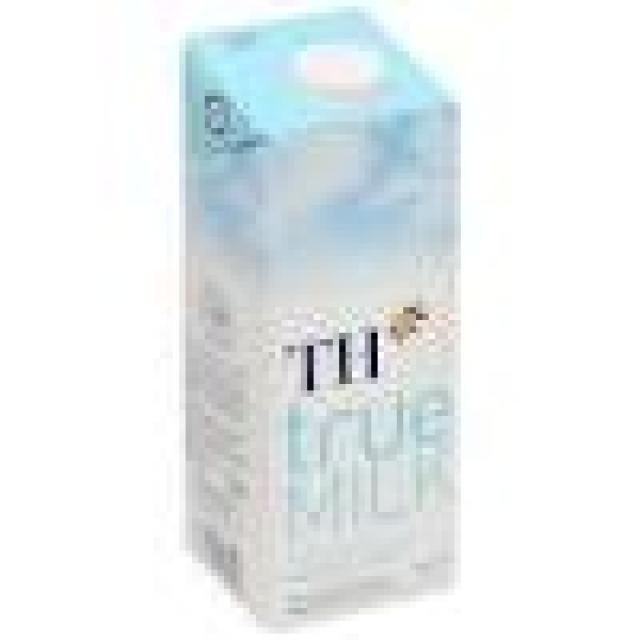non_white_jug: (163, 6, 490, 628)
